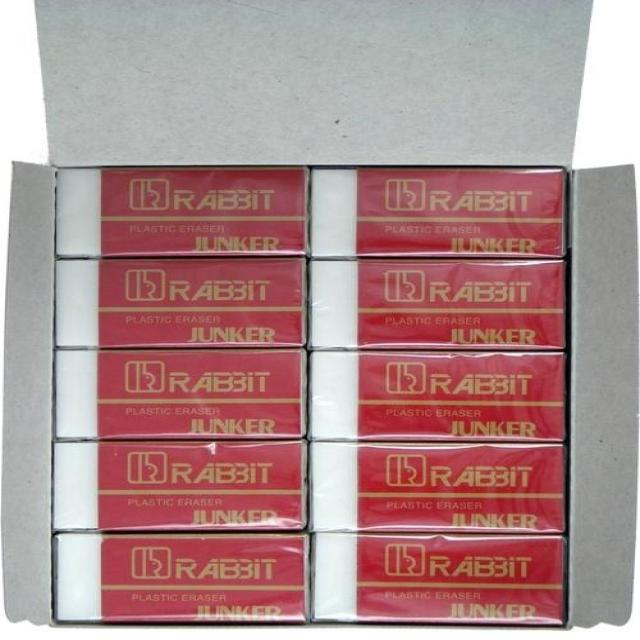box: (309, 442, 566, 535), (305, 259, 566, 350), (307, 534, 563, 626), (54, 442, 309, 533), (309, 169, 566, 259), (55, 348, 306, 440), (56, 257, 308, 348), (308, 354, 566, 442), (55, 534, 308, 623), (55, 169, 310, 257)
